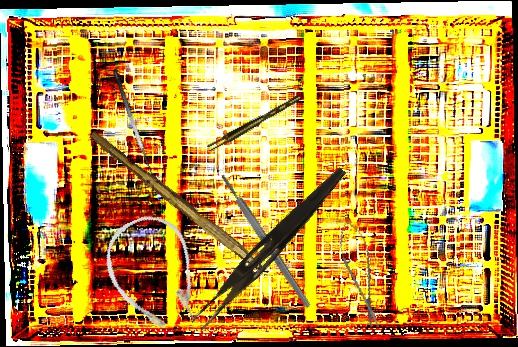Cannula: (92, 205, 217, 346)
Dressing Forceps: (189, 159, 350, 337)
Micro Scissor: (332, 217, 389, 332)
Scalpel Handle: (86, 129, 268, 272), (218, 171, 313, 311)
Spatula Surgical: (111, 65, 163, 183)
Tissue Forceps: (205, 94, 304, 153)
